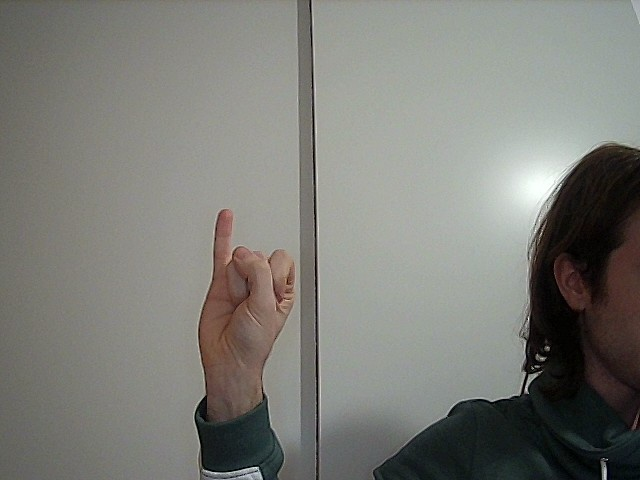i: (190, 199, 316, 363)
